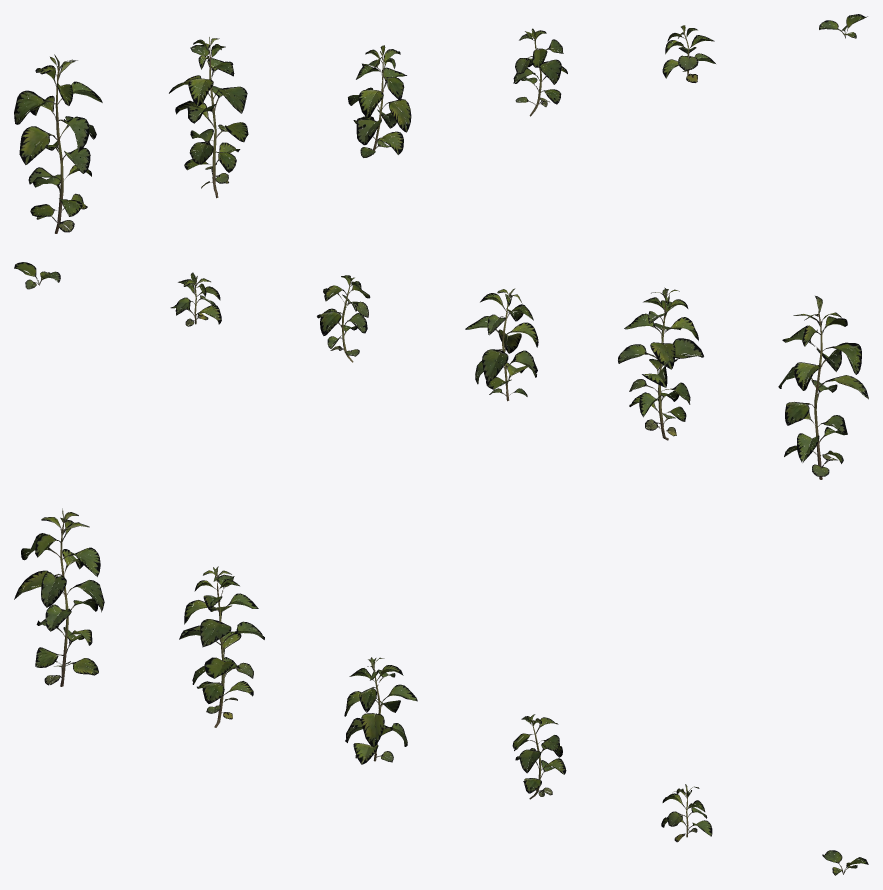
File: nettle_plant.glb
The picture shows the model from 3 angles, top to bottom: view 1: azimuth 30°, elevation 25°; view 2: azimuth 150°, elevation 25°; view 3: azimuth 330°, elevation 25°; orthographic projection.
Visible parts, largest first — view 1: nettle_plant_tall_a_LOD0, nettle_plant_tall_b_LOD0, nettle_plant_medium_a_LOD0, nettle_plant_medium_b_LOD0, nettle_plant_small_a_LOD0; view 2: nettle_plant_tall_a_LOD0, nettle_plant_tall_b_LOD0, nettle_plant_medium_a_LOD0, nettle_plant_medium_b_LOD0, nettle_plant_small_a_LOD0, nettle_plant_small_b_LOD0; view 3: nettle_plant_tall_a_LOD0, nettle_plant_tall_b_LOD0, nettle_plant_medium_a_LOD0, nettle_plant_medium_b_LOD0, nettle_plant_small_a_LOD0.
Part boxes in pixels (x1,y1,x2,y2): nettle_plant_tall_a_LOD0: [14, 54, 102, 233]; nettle_plant_tall_b_LOD0: [169, 37, 248, 198]; nettle_plant_medium_a_LOD0: [348, 45, 411, 157]; nettle_plant_medium_b_LOD0: [513, 28, 567, 116]; nettle_plant_small_a_LOD0: [662, 25, 715, 82]; nettle_plant_tall_a_LOD0: [778, 296, 868, 479]; nettle_plant_tall_b_LOD0: [618, 287, 703, 440]; nettle_plant_medium_a_LOD0: [465, 288, 538, 401]; nettle_plant_medium_b_LOD0: [317, 275, 370, 362]; nettle_plant_small_a_LOD0: [170, 272, 221, 326]; nettle_plant_small_b_LOD0: [14, 262, 60, 289]; nettle_plant_tall_a_LOD0: [14, 508, 104, 686]; nettle_plant_tall_b_LOD0: [179, 566, 264, 727]; nettle_plant_medium_a_LOD0: [344, 657, 417, 764]; nettle_plant_medium_b_LOD0: [512, 714, 566, 799]; nettle_plant_small_a_LOD0: [661, 784, 712, 842].
Size of the model in its own units: 1.08 by 0.2181 by 0.0949.
Materials: 1 (1 with a texture image).
